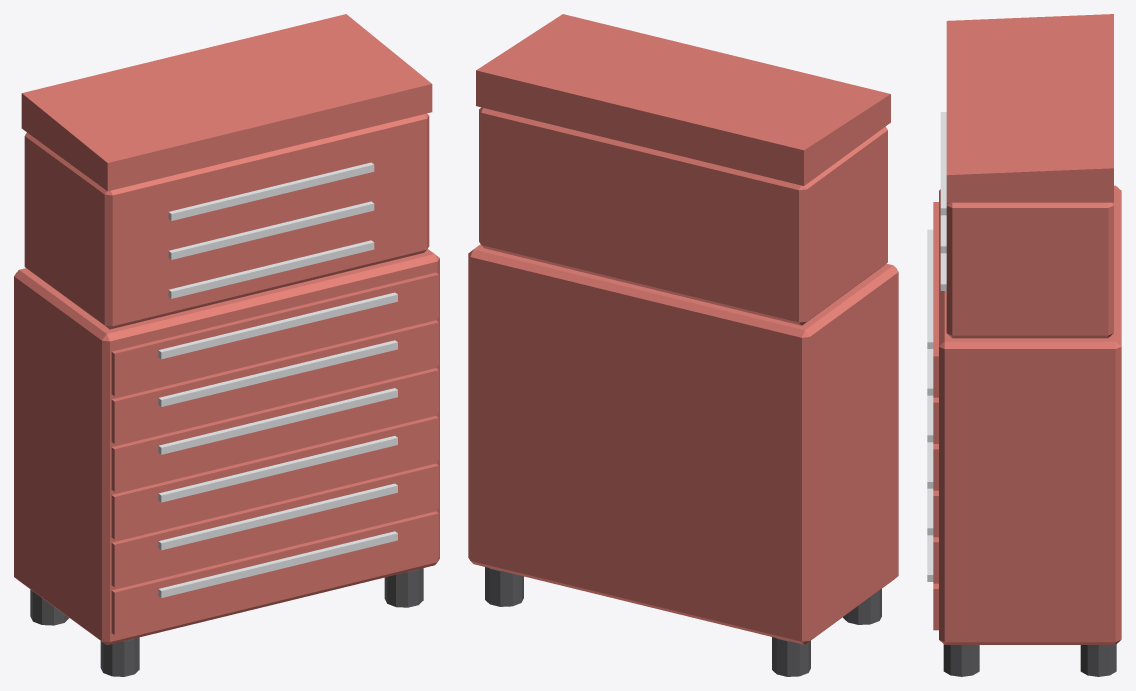
Rendered from tool_chest.glb.
The picture shows the model from 3 angles, left to right: view 1: azimuth 30°, elevation 25°; view 2: azimuth 150°, elevation 25°; view 3: azimuth 270°, elevation 25°; orthographic projection. The views are drawn at different scales.
Visible parts, largest first — view 1: tool_chest_tool_r, tool_chest_chrome, tool_chest_dark; view 2: tool_chest_tool_r, tool_chest_dark; view 3: tool_chest_tool_r, tool_chest_chrome, tool_chest_dark.
Boxes of the visible parts, box(x1,y1,x2,y2) form: tool_chest_tool_r: box(14, 14, 439, 645); tool_chest_chrome: box(158, 162, 397, 597); tool_chest_dark: box(30, 568, 423, 676); tool_chest_tool_r: box(468, 14, 898, 644); tool_chest_dark: box(485, 567, 881, 676); tool_chest_tool_r: box(933, 14, 1121, 644); tool_chest_chrome: box(927, 112, 946, 581); tool_chest_dark: box(943, 644, 1116, 676).
Size of the model in its own units: 1 by 1.48 by 0.51.
